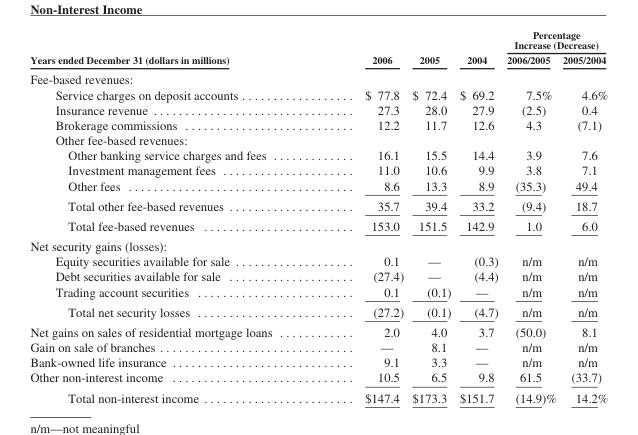table: (29, 28, 607, 404)
table column: (29, 28, 317, 404), (317, 28, 407, 404), (502, 28, 558, 404), (558, 28, 607, 404), (454, 28, 502, 404), (407, 28, 454, 404)
table column header: (29, 28, 607, 68)
table projected row header: (29, 68, 607, 86), (29, 235, 607, 253), (29, 132, 607, 147)
table row: (29, 28, 607, 52), (29, 195, 607, 215), (29, 215, 607, 235), (29, 301, 607, 321), (29, 68, 607, 86), (29, 177, 607, 195), (29, 235, 607, 253), (29, 283, 607, 301), (29, 321, 607, 339), (29, 369, 607, 387), (29, 387, 607, 404), (29, 52, 607, 68), (29, 101, 607, 117), (29, 86, 607, 101), (29, 117, 607, 132), (29, 132, 607, 147), (29, 147, 607, 162), (29, 162, 607, 177), (29, 253, 607, 268), (29, 268, 607, 283), (29, 339, 607, 354), (29, 354, 607, 369)
table spanning cell: (29, 28, 317, 68), (317, 28, 407, 68), (502, 28, 607, 52), (454, 28, 502, 68), (407, 28, 454, 68)
